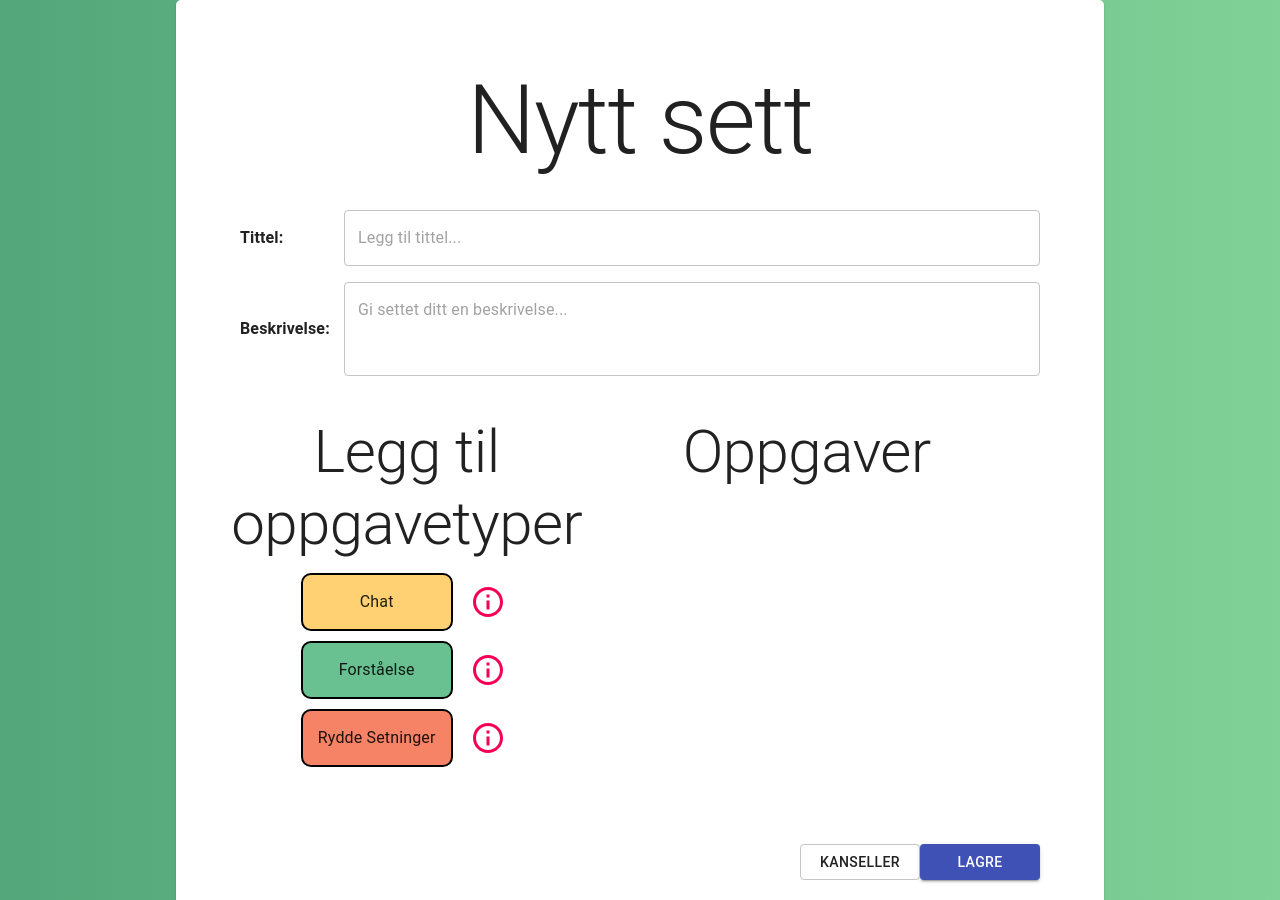
Scenario: CreateExerciseMenu component › chatModal opens correctly
Check: the text "Tittel:" is shown, box [240,228,283,247]
Click the button with test id "chatModal": (488, 602) [458,568,518,636]
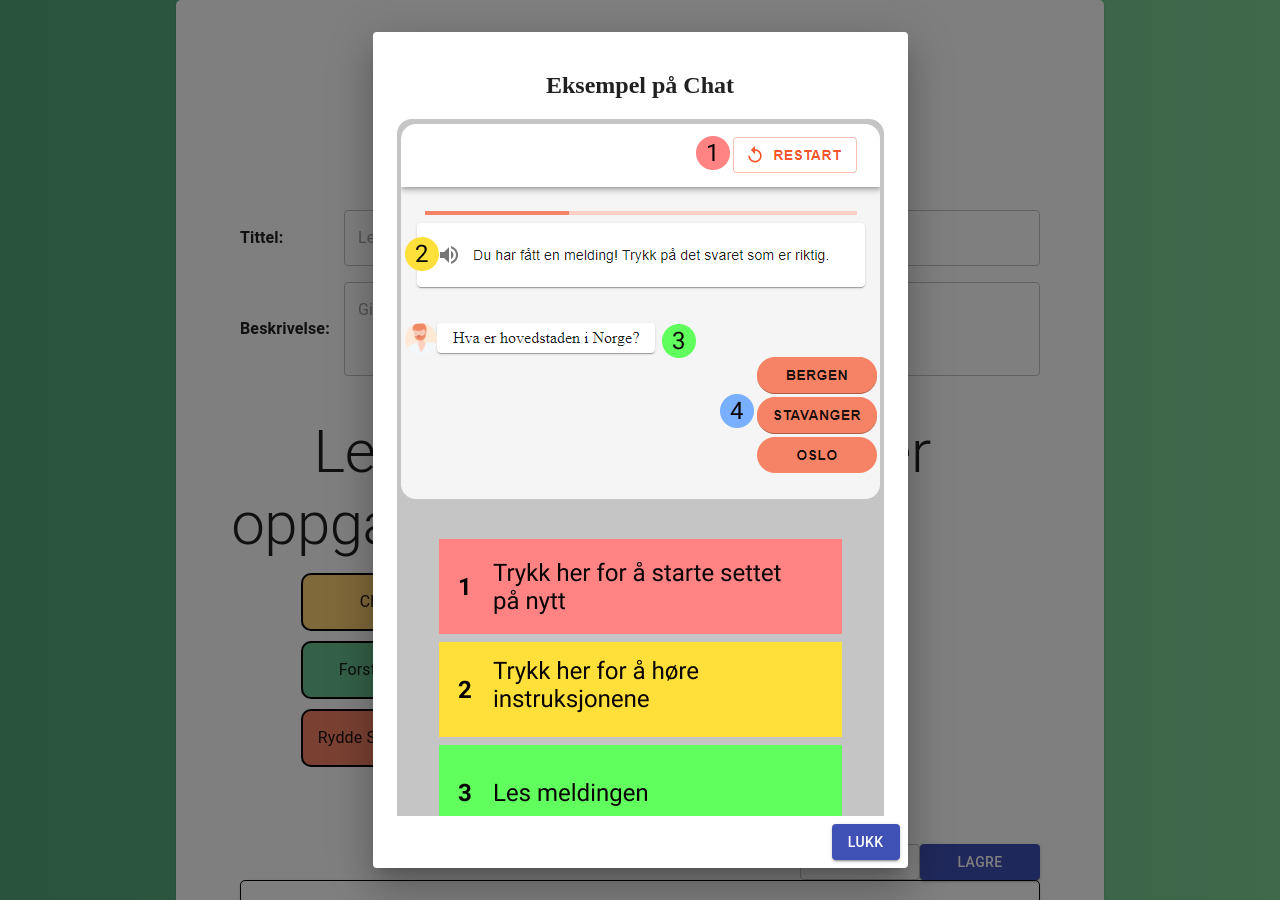
Check: the heading "Eksempel på Chat" is shown, box [546,72,734,98]
